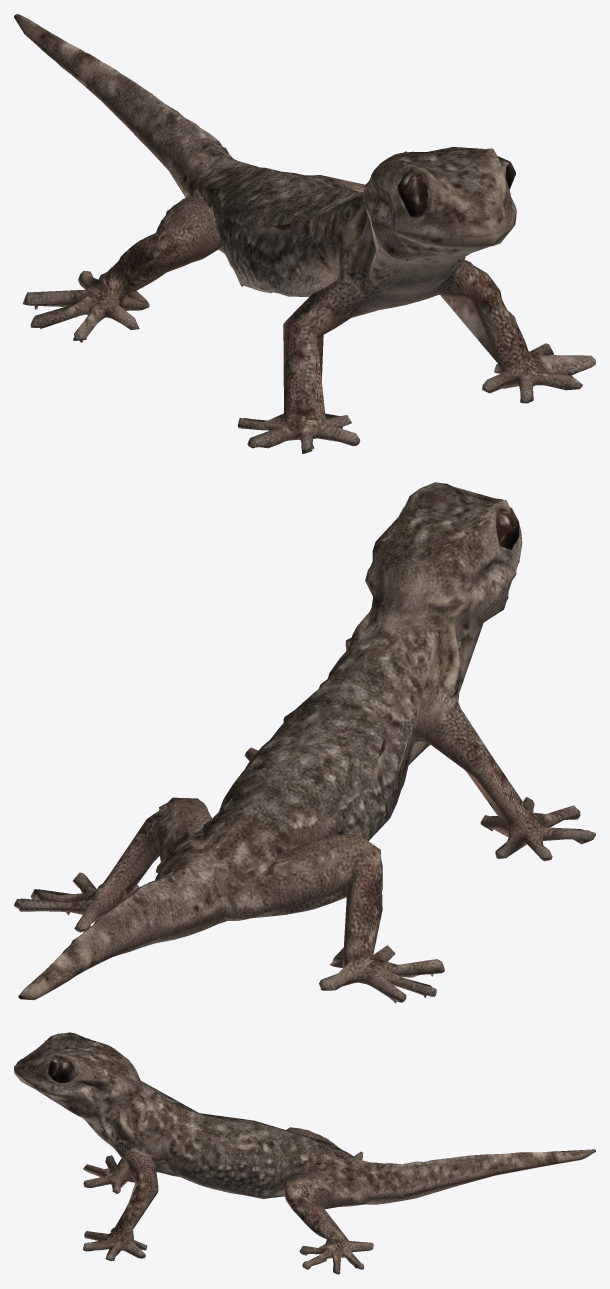
The model's file is gecko.lo.glb.
3 views of the same model, one above another, from view 1: azimuth 30°, elevation 25°; view 2: azimuth 150°, elevation 25°; view 3: azimuth 270°, elevation 25° (orthographic). The views are drawn at different scales.
Parts seen in each view (by area): view 1: gecko; view 2: gecko; view 3: gecko.
Part boxes in pixels (box(x1,y1,x2,y2)): gecko: box(14, 14, 595, 453); gecko: box(14, 482, 595, 1003); gecko: box(14, 1032, 595, 1274).
Bounding box in the file's own units: 0.034 × 0.0233 × 0.0704.
Materials: 1 (1 with a texture image).
